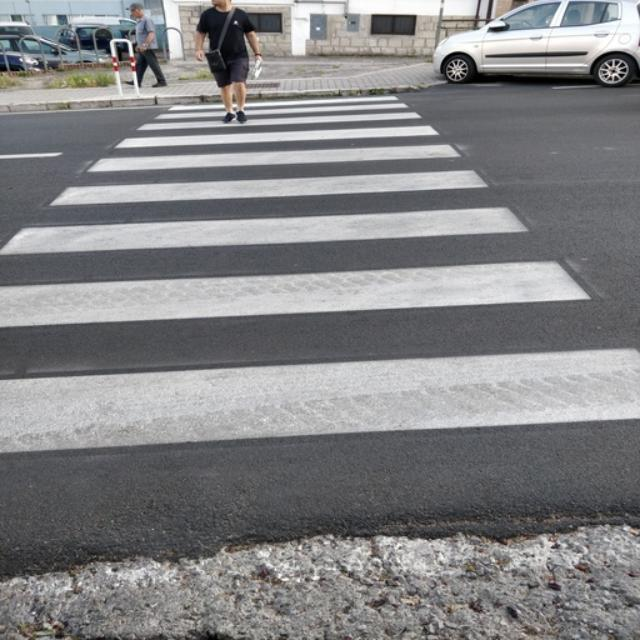sidewalk: (0, 86, 640, 589)
